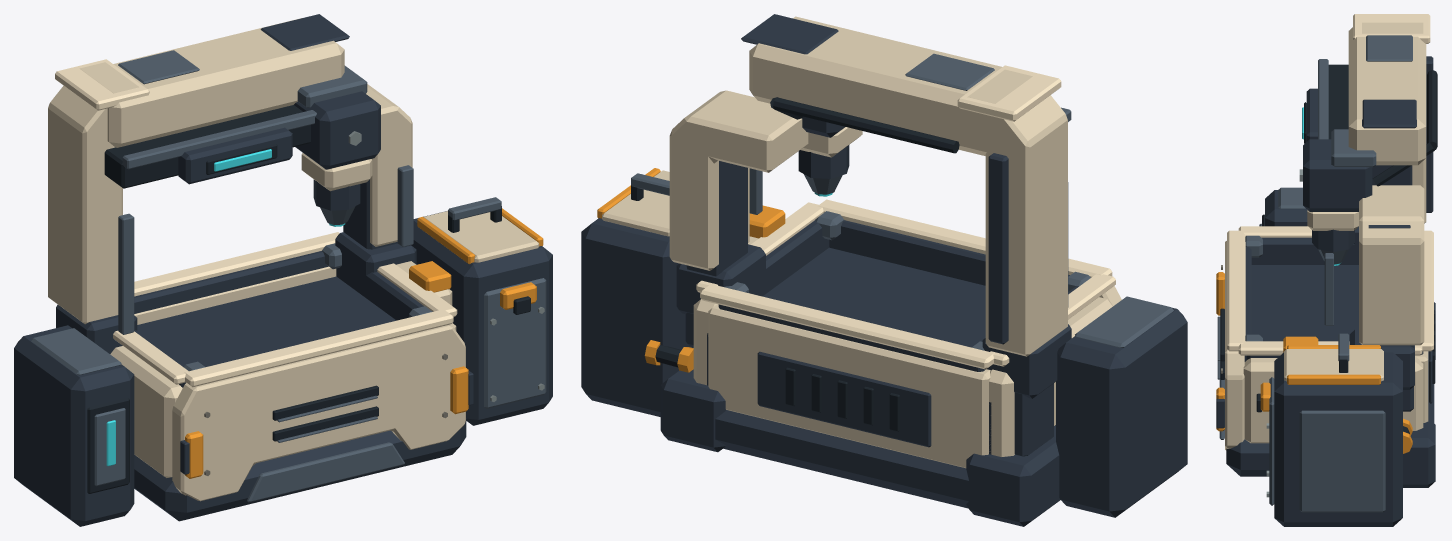
File: matter-fabricator.glb
3 views of the same model, side by side, from view 1: azimuth 30°, elevation 25°; view 2: azimuth 150°, elevation 25°; view 3: azimuth 270°, elevation 25° (orthographic). The views are drawn at different scales.
Visible parts, largest first — view 1: MatterFabricatorStructure, FabricatorCarriage, FabricatorNozzle; view 2: MatterFabricatorStructure, FabricatorNozzle; view 3: MatterFabricatorStructure, FabricatorCarriage, FabricatorNozzle.
Part boxes in pixels (x1=…): MatterFabricatorStructure: x1=14, y1=14, x2=552, y2=526; FabricatorCarriage: x1=294, y1=65, x2=380, y2=169; FabricatorNozzle: x1=301, y1=153, x2=372, y2=226; MatterFabricatorStructure: x1=581, y1=14, x2=1187, y2=526; FabricatorNozzle: x1=798, y1=127, x2=862, y2=196; MatterFabricatorStructure: x1=1216, y1=14, x2=1437, y2=526; FabricatorCarriage: x1=1299, y1=129, x2=1376, y2=211; FabricatorNozzle: x1=1307, y1=210, x2=1358, y2=265.
Size of the model in its own units: 2.48 by 1.83 by 1.09.
Materials: 1 (1 with a texture image).
